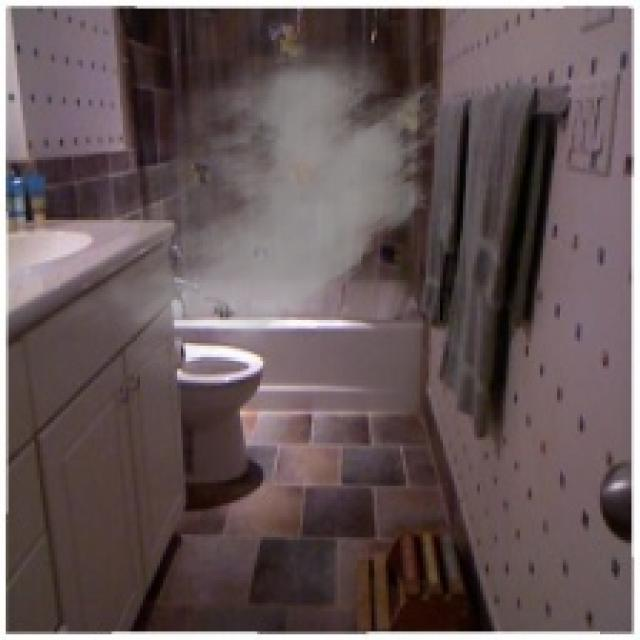smoke: (46, 26, 454, 380)
